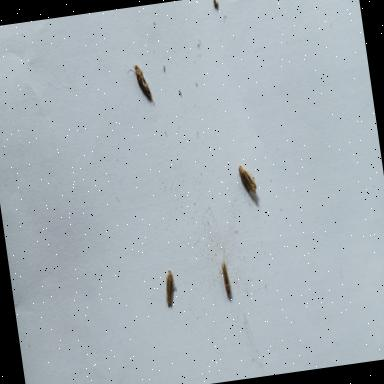pbw: (124, 58, 156, 112), (216, 246, 234, 296), (236, 160, 258, 198), (161, 268, 179, 308)
